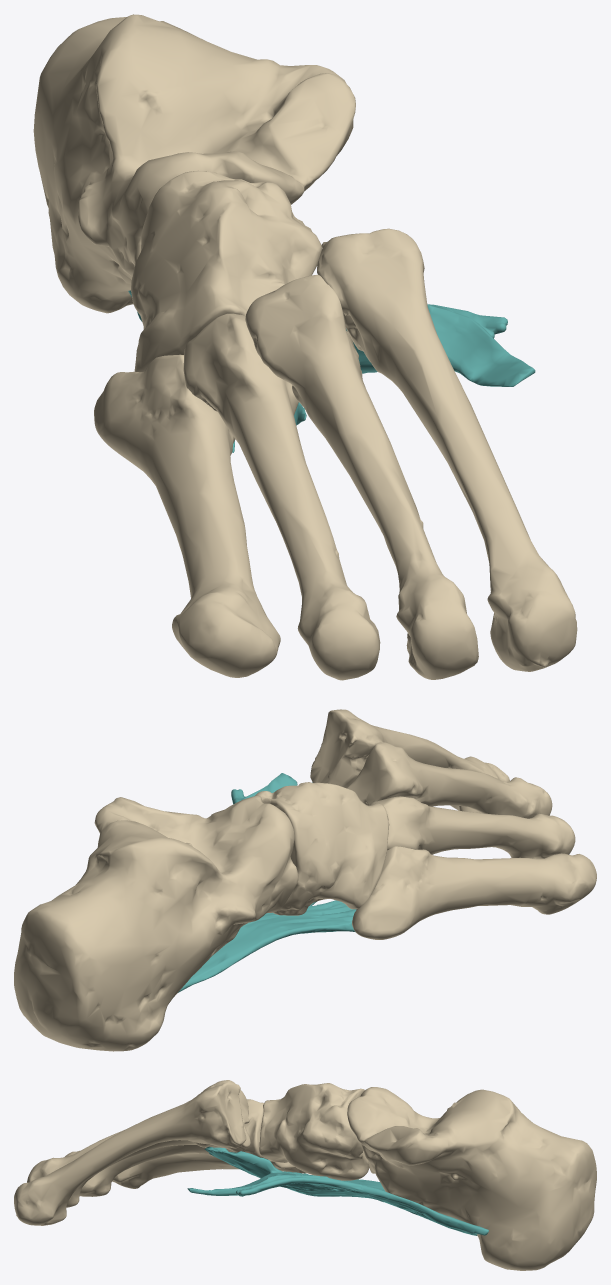
Rendered from foot.glb.
3 views of the same model, one above another, from view 1: azimuth 30°, elevation 25°; view 2: azimuth 150°, elevation 25°; view 3: azimuth 270°, elevation 25° (orthographic). The views are drawn at different scales.
Visible parts, largest first — view 1: FMA24497, FMA24509, FMA24515, FMA24511, FMA24528, FMA24513, FMA44249; view 2: FMA24497, FMA24515, FMA24528, FMA24511, FMA24513, FMA24509, FMA44249; view 3: FMA24497, FMA24509, FMA24528, FMA44249, FMA24513, FMA24515, FMA24511.
Boxes of the visible parts, box(x1,y1,x2,y2) form: FMA24497: box(33, 14, 355, 313); FMA24509: box(317, 228, 577, 671); FMA24515: box(94, 354, 280, 677); FMA24511: box(245, 275, 478, 679); FMA24528: box(131, 170, 322, 372); FMA24513: box(183, 313, 380, 680); FMA44249: box(128, 290, 535, 452); FMA24497: box(14, 795, 298, 1051); FMA24515: box(352, 846, 596, 939); FMA24528: box(255, 782, 389, 915); FMA24511: box(347, 742, 552, 818); FMA24513: box(370, 796, 575, 858); FMA24509: box(310, 709, 509, 813); FMA44249: box(178, 773, 356, 992); FMA24497: box(347, 1087, 596, 1270); FMA24509: box(14, 1080, 246, 1225); FMA24528: box(259, 1083, 369, 1180); FMA44249: box(187, 1146, 488, 1235); FMA24513: box(64, 1099, 264, 1196); FMA24515: box(112, 1153, 306, 1188); FMA24511: box(27, 1090, 250, 1207).
Size of the model in its own units: 1.56 by 0.9961 by 3.3.
